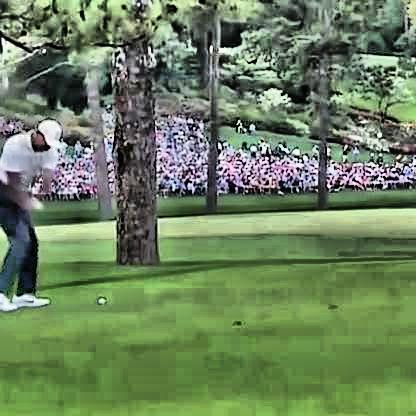golfball: (94, 293, 104, 303)
